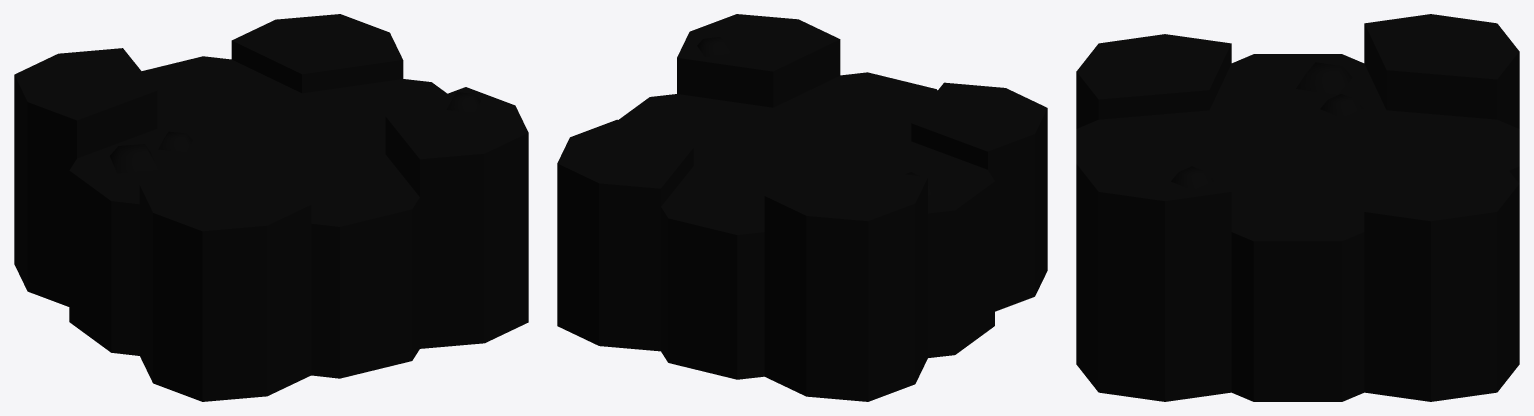
Rendered from rocks-low.glb.
3 views of the same model, side by side, from view 1: azimuth 30°, elevation 25°; view 2: azimuth 150°, elevation 25°; view 3: azimuth 270°, elevation 25° (orthographic). The views are drawn at different scales.
Visible parts, largest first — view 1: rocks-low; view 2: rocks-low; view 3: rocks-low.
Boxes of the visible parts, x1,y1,x2,y2 form: rocks-low: (14,14,528,401); rocks-low: (557,14,1047,401); rocks-low: (1076,14,1519,401).
Size of the model in its own units: 1 by 0.5228 by 1.
Materials: 1 (1 with a texture image).
